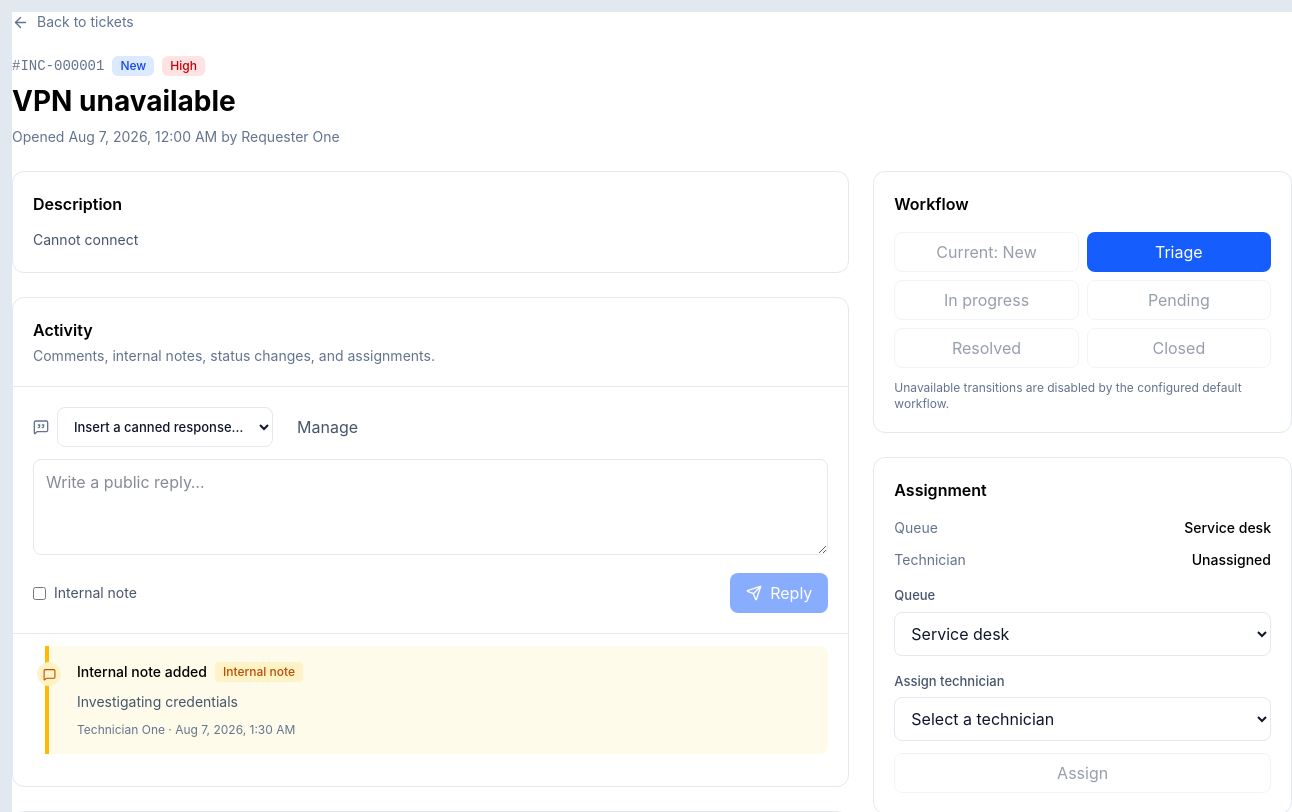
Test: TicketDetailPage › replaces the previous canned response when a different one is chosen
Select "Acknowledge receipt" in the dropdown named "Insert canned response" at [165, 427], box [57,407,273,447]
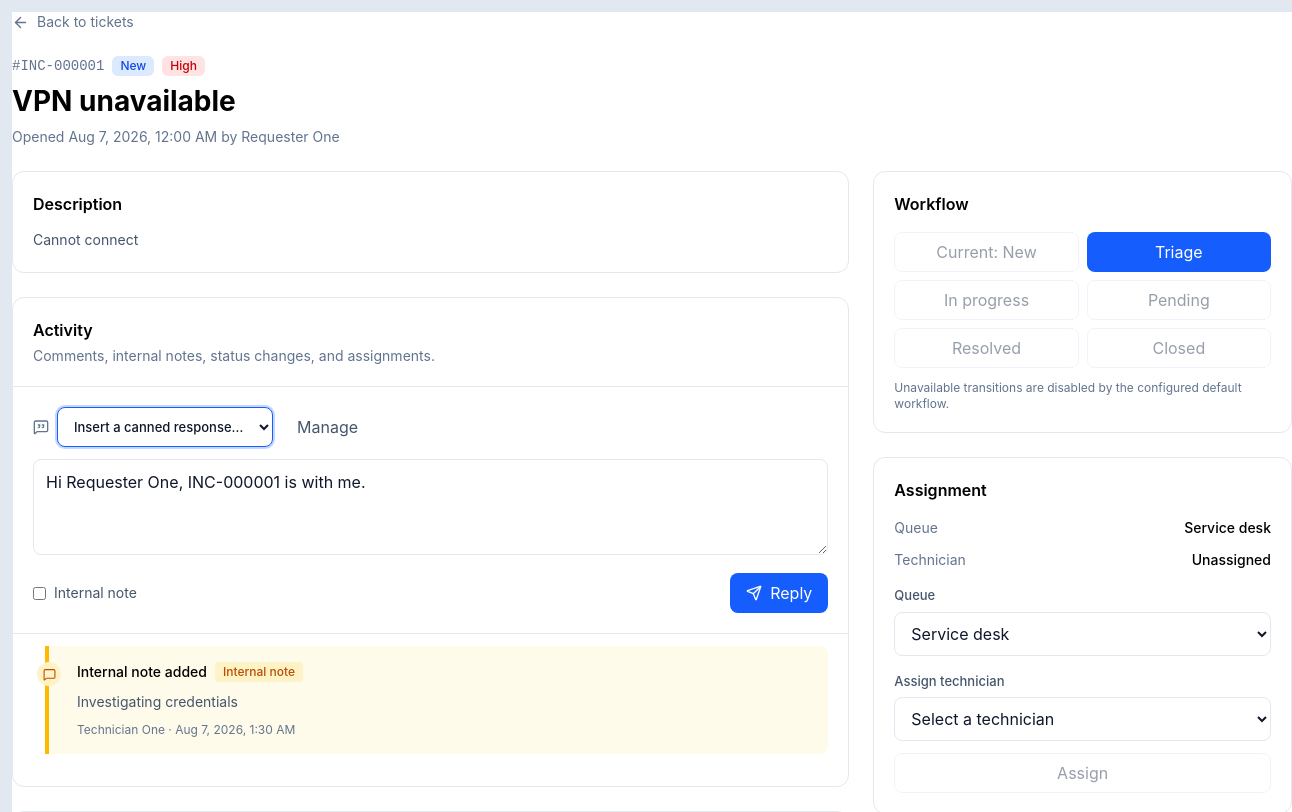
Check: the text box named "Comment" holds "Hi Requester One, INC-000001 is with me.", box [33,459,828,555]
Select "Ask for more information" in the dropdown named "Insert canned response" at [165, 427], box [57,407,273,447]
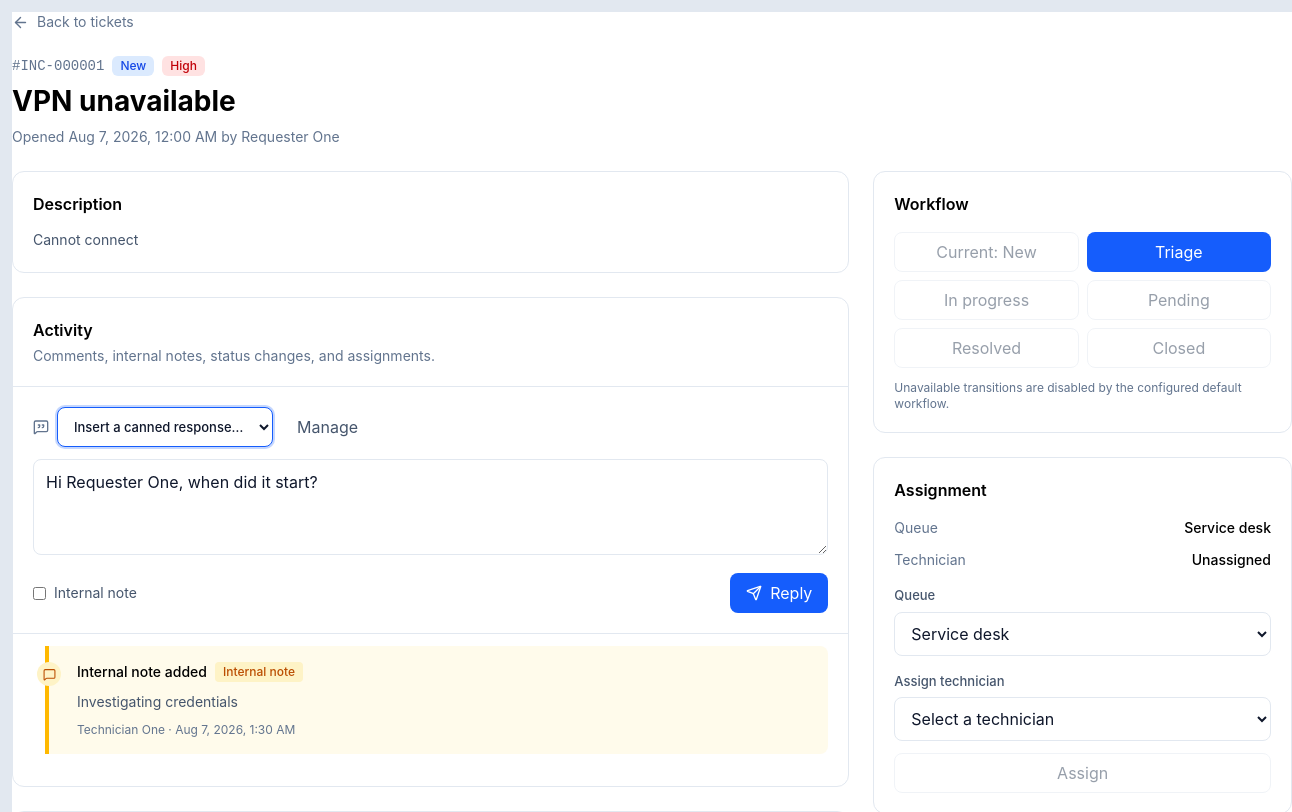
Check: the text box named "Comment" holds "Hi Requester One, when did it start?", box [33,459,828,555]
